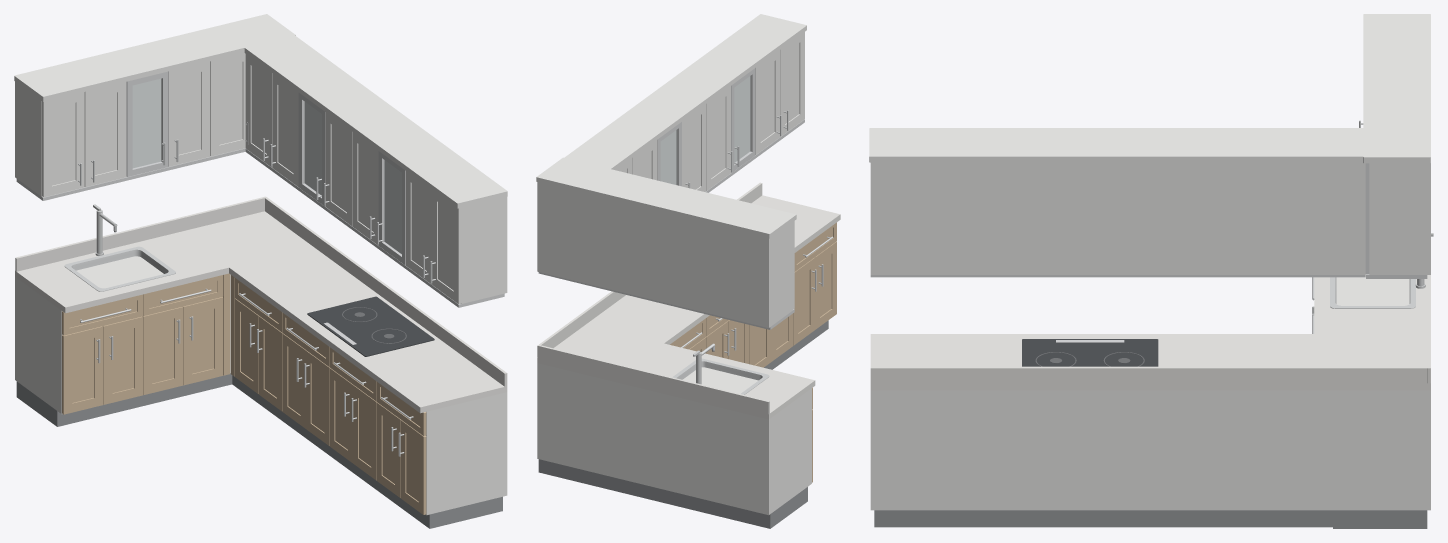
3 renders of one model, left to right at view 1: azimuth 30°, elevation 25°; view 2: azimuth 150°, elevation 25°; view 3: azimuth 270°, elevation 25°, orthographic. The views are drawn at different scales.
Visible parts, largest first — view 1: Tủ bếp chữ L Dài cạnh chính=1800; Dài cạnh phụ=3000; Sâu tủ ; view 2: Tủ bếp chữ L Dài cạnh chính=1800; Dài cạnh phụ=3000; Sâu tủ ; view 3: Tủ bếp chữ L Dài cạnh chính=1800; Dài cạnh phụ=3000; Sâu tủ .
Part boxes in pixels (x1,y1,x2,y2): Tủ bếp chữ L Dài cạnh chính=1800; Dài cạnh phụ=3000; Sâu tủ : (14, 14, 507, 528); Tủ bếp chữ L Dài cạnh chính=1800; Dài cạnh phụ=3000; Sâu tủ : (536, 14, 840, 528); Tủ bếp chữ L Dài cạnh chính=1800; Dài cạnh phụ=3000; Sâu tủ : (869, 14, 1433, 528).
Size of the model in its own units: 1.82 by 2.2 by 3.02.
